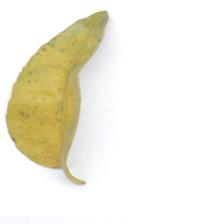greening: (6, 48, 87, 157)
